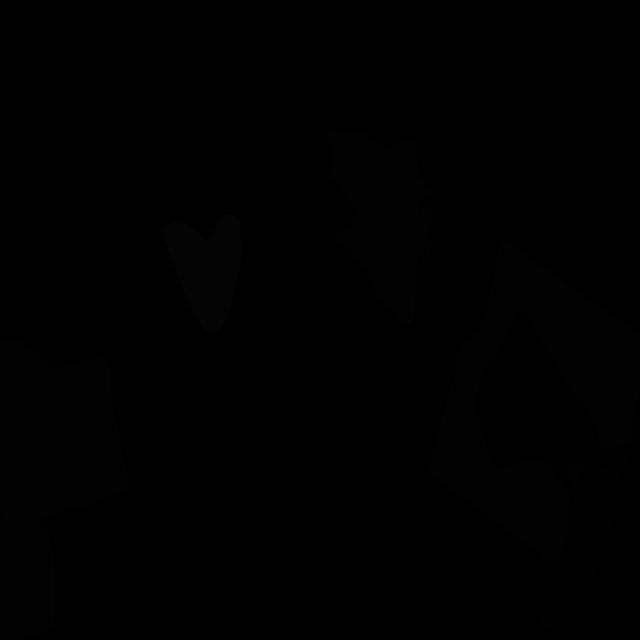cardboard: (426, 239, 640, 564), (0, 355, 130, 524), (324, 128, 434, 325), (0, 506, 55, 640), (0, 340, 53, 381), (564, 463, 586, 484)
rigid_plastic: (532, 445, 630, 631)
soft_plastic: (162, 214, 242, 332)
